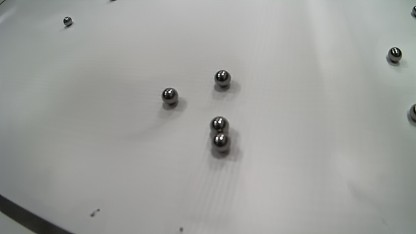ironball: (211, 132, 231, 152), (209, 116, 229, 133), (214, 70, 231, 87), (161, 87, 178, 104), (388, 47, 402, 63), (409, 104, 416, 122), (63, 16, 73, 26), (412, 5, 416, 16), (110, 0, 117, 1)
